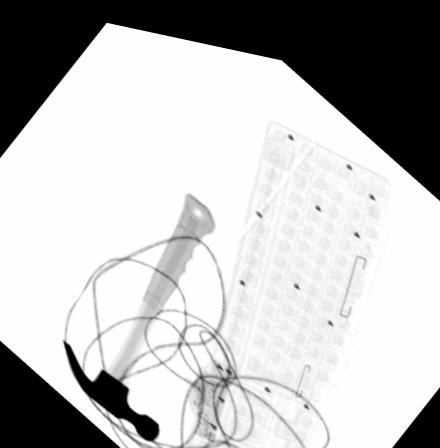Hammer: (60, 182, 214, 435)
